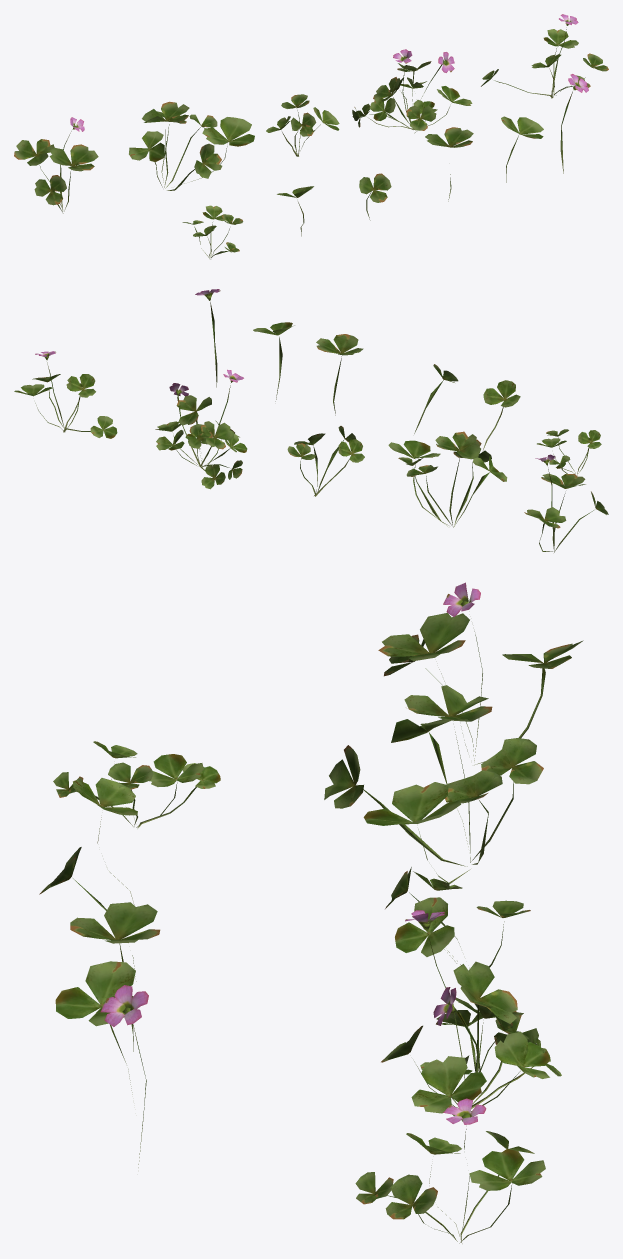
Rendered from shrub_sorrel.glb.
3 views of the same model, one above another, from view 1: azimuth 30°, elevation 25°; view 2: azimuth 150°, elevation 25°; view 3: azimuth 270°, elevation 25° (orthographic). The views are drawn at different scales.
Visible parts, largest first — view 1: shrub_sorrel_01_k; view 2: shrub_sorrel_01_k; view 3: shrub_sorrel_01_k.
Boxes of the visible parts, <box> form: shrub_sorrel_01_k: <box>14,14,608,259</box>; shrub_sorrel_01_k: <box>14,289,608,552</box>; shrub_sorrel_01_k: <box>39,582,583,1243</box>.
Size of the model in its own units: 0.3521 by 0.058 by 0.1464.
Materials: 1 (1 with a texture image).
